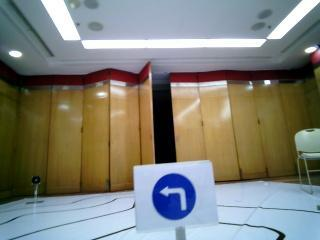left: (132, 167, 216, 224)
